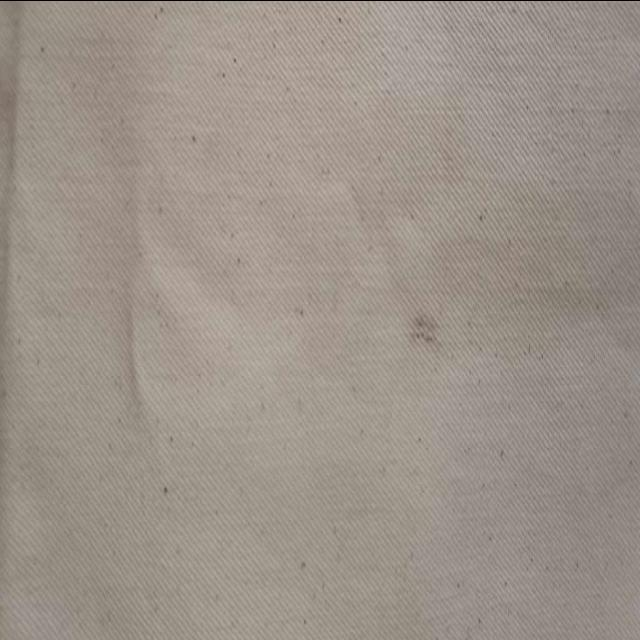taaaches: (396, 298, 452, 376)
